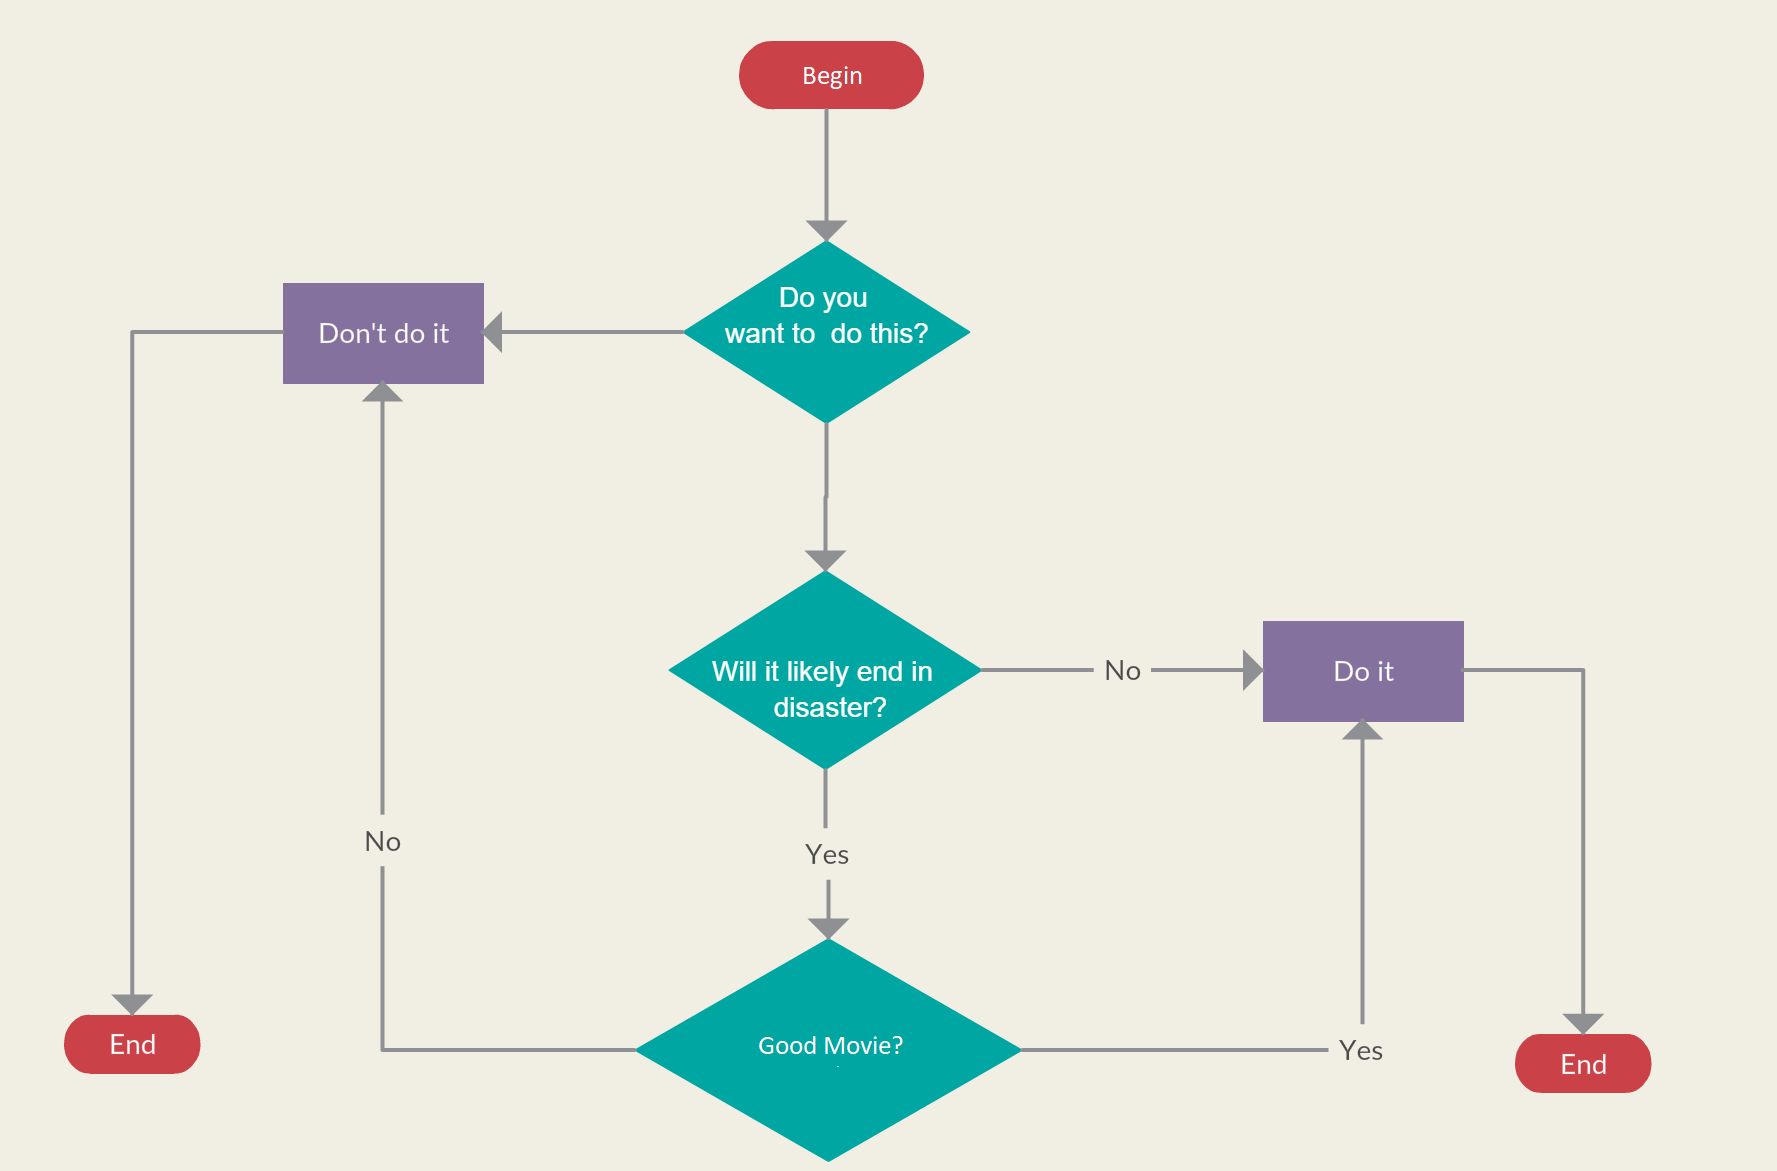arrow: (362, 371, 638, 1057), (1017, 715, 1389, 1055), (108, 325, 287, 1017), (1452, 663, 1607, 1035), (973, 650, 1273, 698), (480, 308, 689, 355), (805, 765, 851, 946), (804, 417, 851, 576), (805, 108, 845, 244)
decision: (632, 937, 1023, 1164), (662, 567, 986, 776), (682, 239, 975, 427)
process: (1254, 616, 1475, 727), (278, 278, 491, 386)
terminator: (737, 37, 928, 114), (60, 1008, 205, 1082), (1512, 1026, 1659, 1098)
text: (709, 651, 936, 723), (721, 284, 936, 352), (751, 1030, 905, 1063), (316, 318, 455, 349), (1328, 651, 1398, 685), (800, 60, 869, 91), (801, 833, 851, 869), (1334, 1032, 1389, 1065), (361, 823, 405, 859), (105, 1030, 159, 1057), (1559, 1053, 1616, 1078), (1101, 657, 1143, 685)
